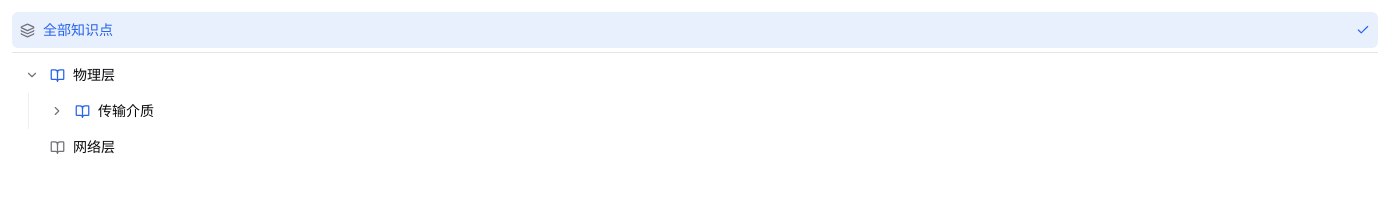
KnowledgeFilterTreeMenu › 按层级展示：一级展开、更深层默认收起，可逐级展开与收起
The width and height of the screenshot is (1390, 207).
Expected: the text "物理层" is shown, [73,66,115,83]
Expected: the text "网络层" is shown, [73,138,115,155]
Step 1. Click the button named "知识点" → coordinates (57, 111), box [45,99,69,123]
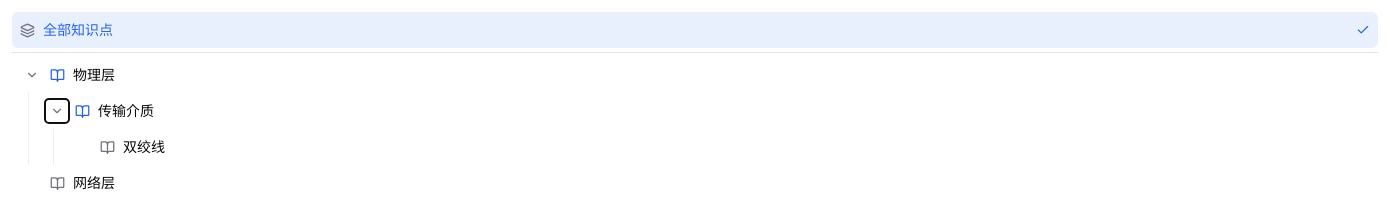
Expected: the text "双绞线" is shown, [123,138,165,155]
Step 2. Click the 1st button named "知识点" → coordinates (32, 75), box [20,63,44,87]
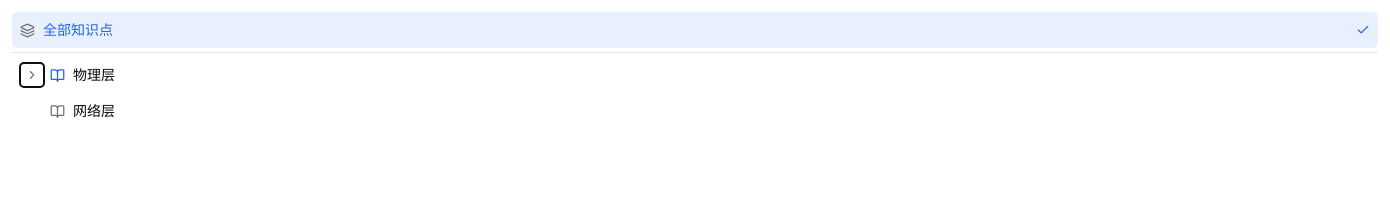
Expected: the button "传输介质" is gone
